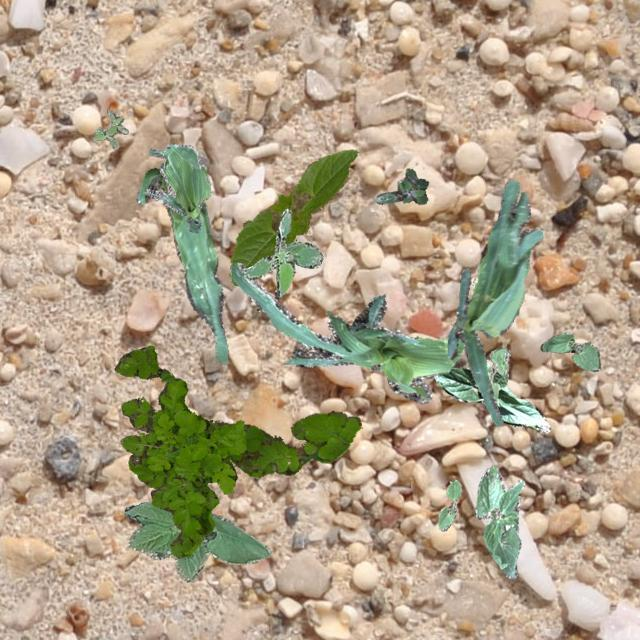crop: (228, 262, 464, 402), (446, 178, 542, 424), (136, 168, 228, 364), (228, 148, 356, 284), (123, 501, 270, 582), (434, 360, 550, 432), (144, 142, 210, 232), (474, 464, 524, 578), (540, 330, 600, 370), (486, 346, 509, 402), (438, 478, 460, 530)
weed: (113, 344, 244, 556), (217, 409, 361, 476), (242, 208, 322, 298), (373, 168, 428, 204), (92, 109, 128, 148)
